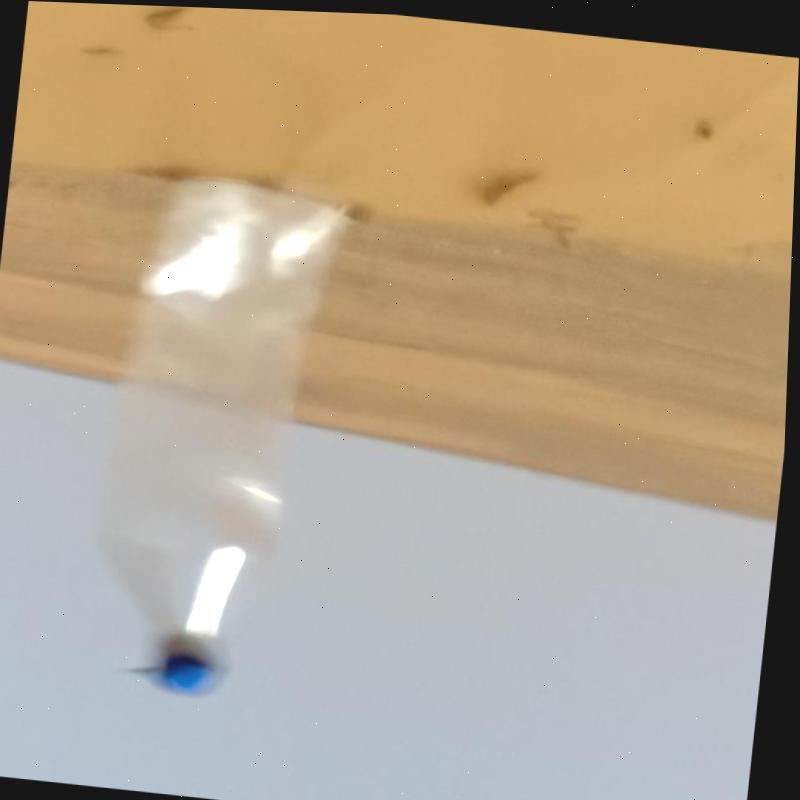botella: (78, 162, 355, 701)
